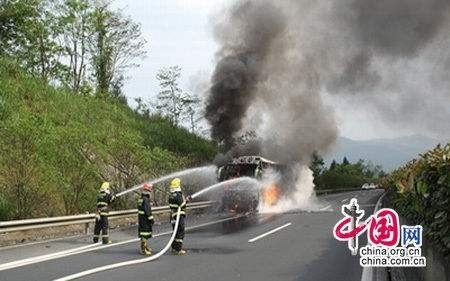fire: (260, 181, 280, 205)
